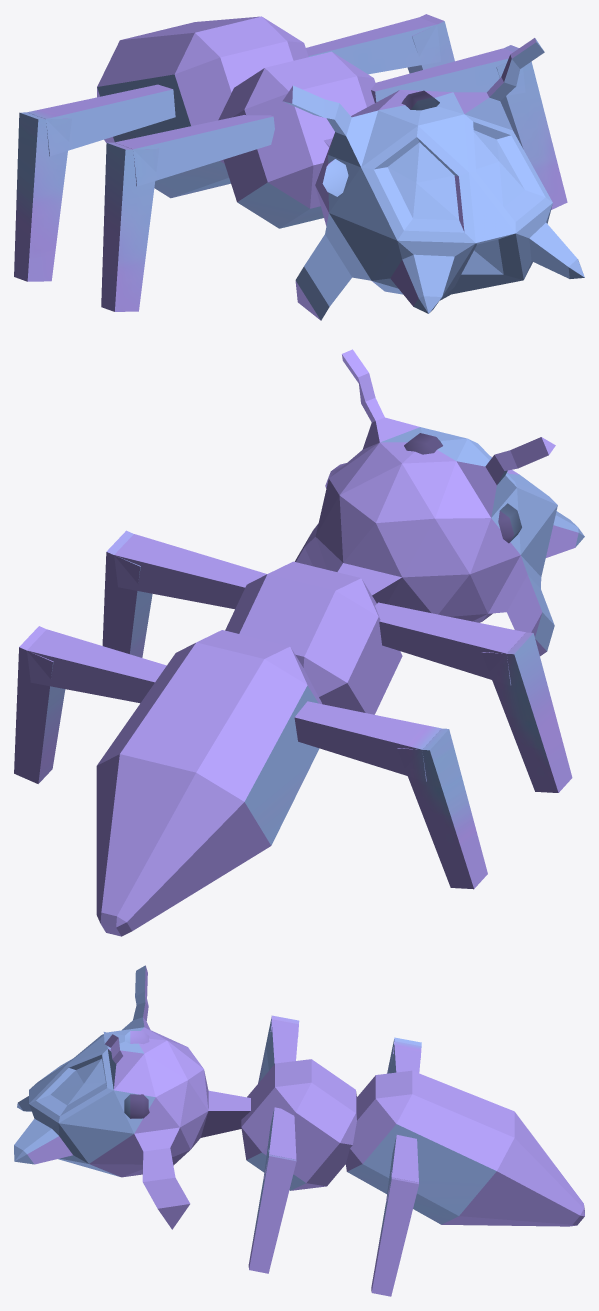
The model's file is Wasper.glb.
3 views of the same model, one above another, from view 1: azimuth 30°, elevation 25°; view 2: azimuth 150°, elevation 25°; view 3: azimuth 270°, elevation 25° (orthographic). The views are drawn at different scales.
Parts seen in each view (by area): view 1: Wasper; view 2: Wasper; view 3: Wasper.
Boxes of the visible parts, x1,y1,x2,y2 form: Wasper: (14, 14, 584, 320); Wasper: (14, 349, 584, 936); Wasper: (14, 965, 584, 1296).
Bounding box in the file's own units: 0.4839 × 0.3186 × 0.7316.
Materials: 1 (1 with a texture image).
